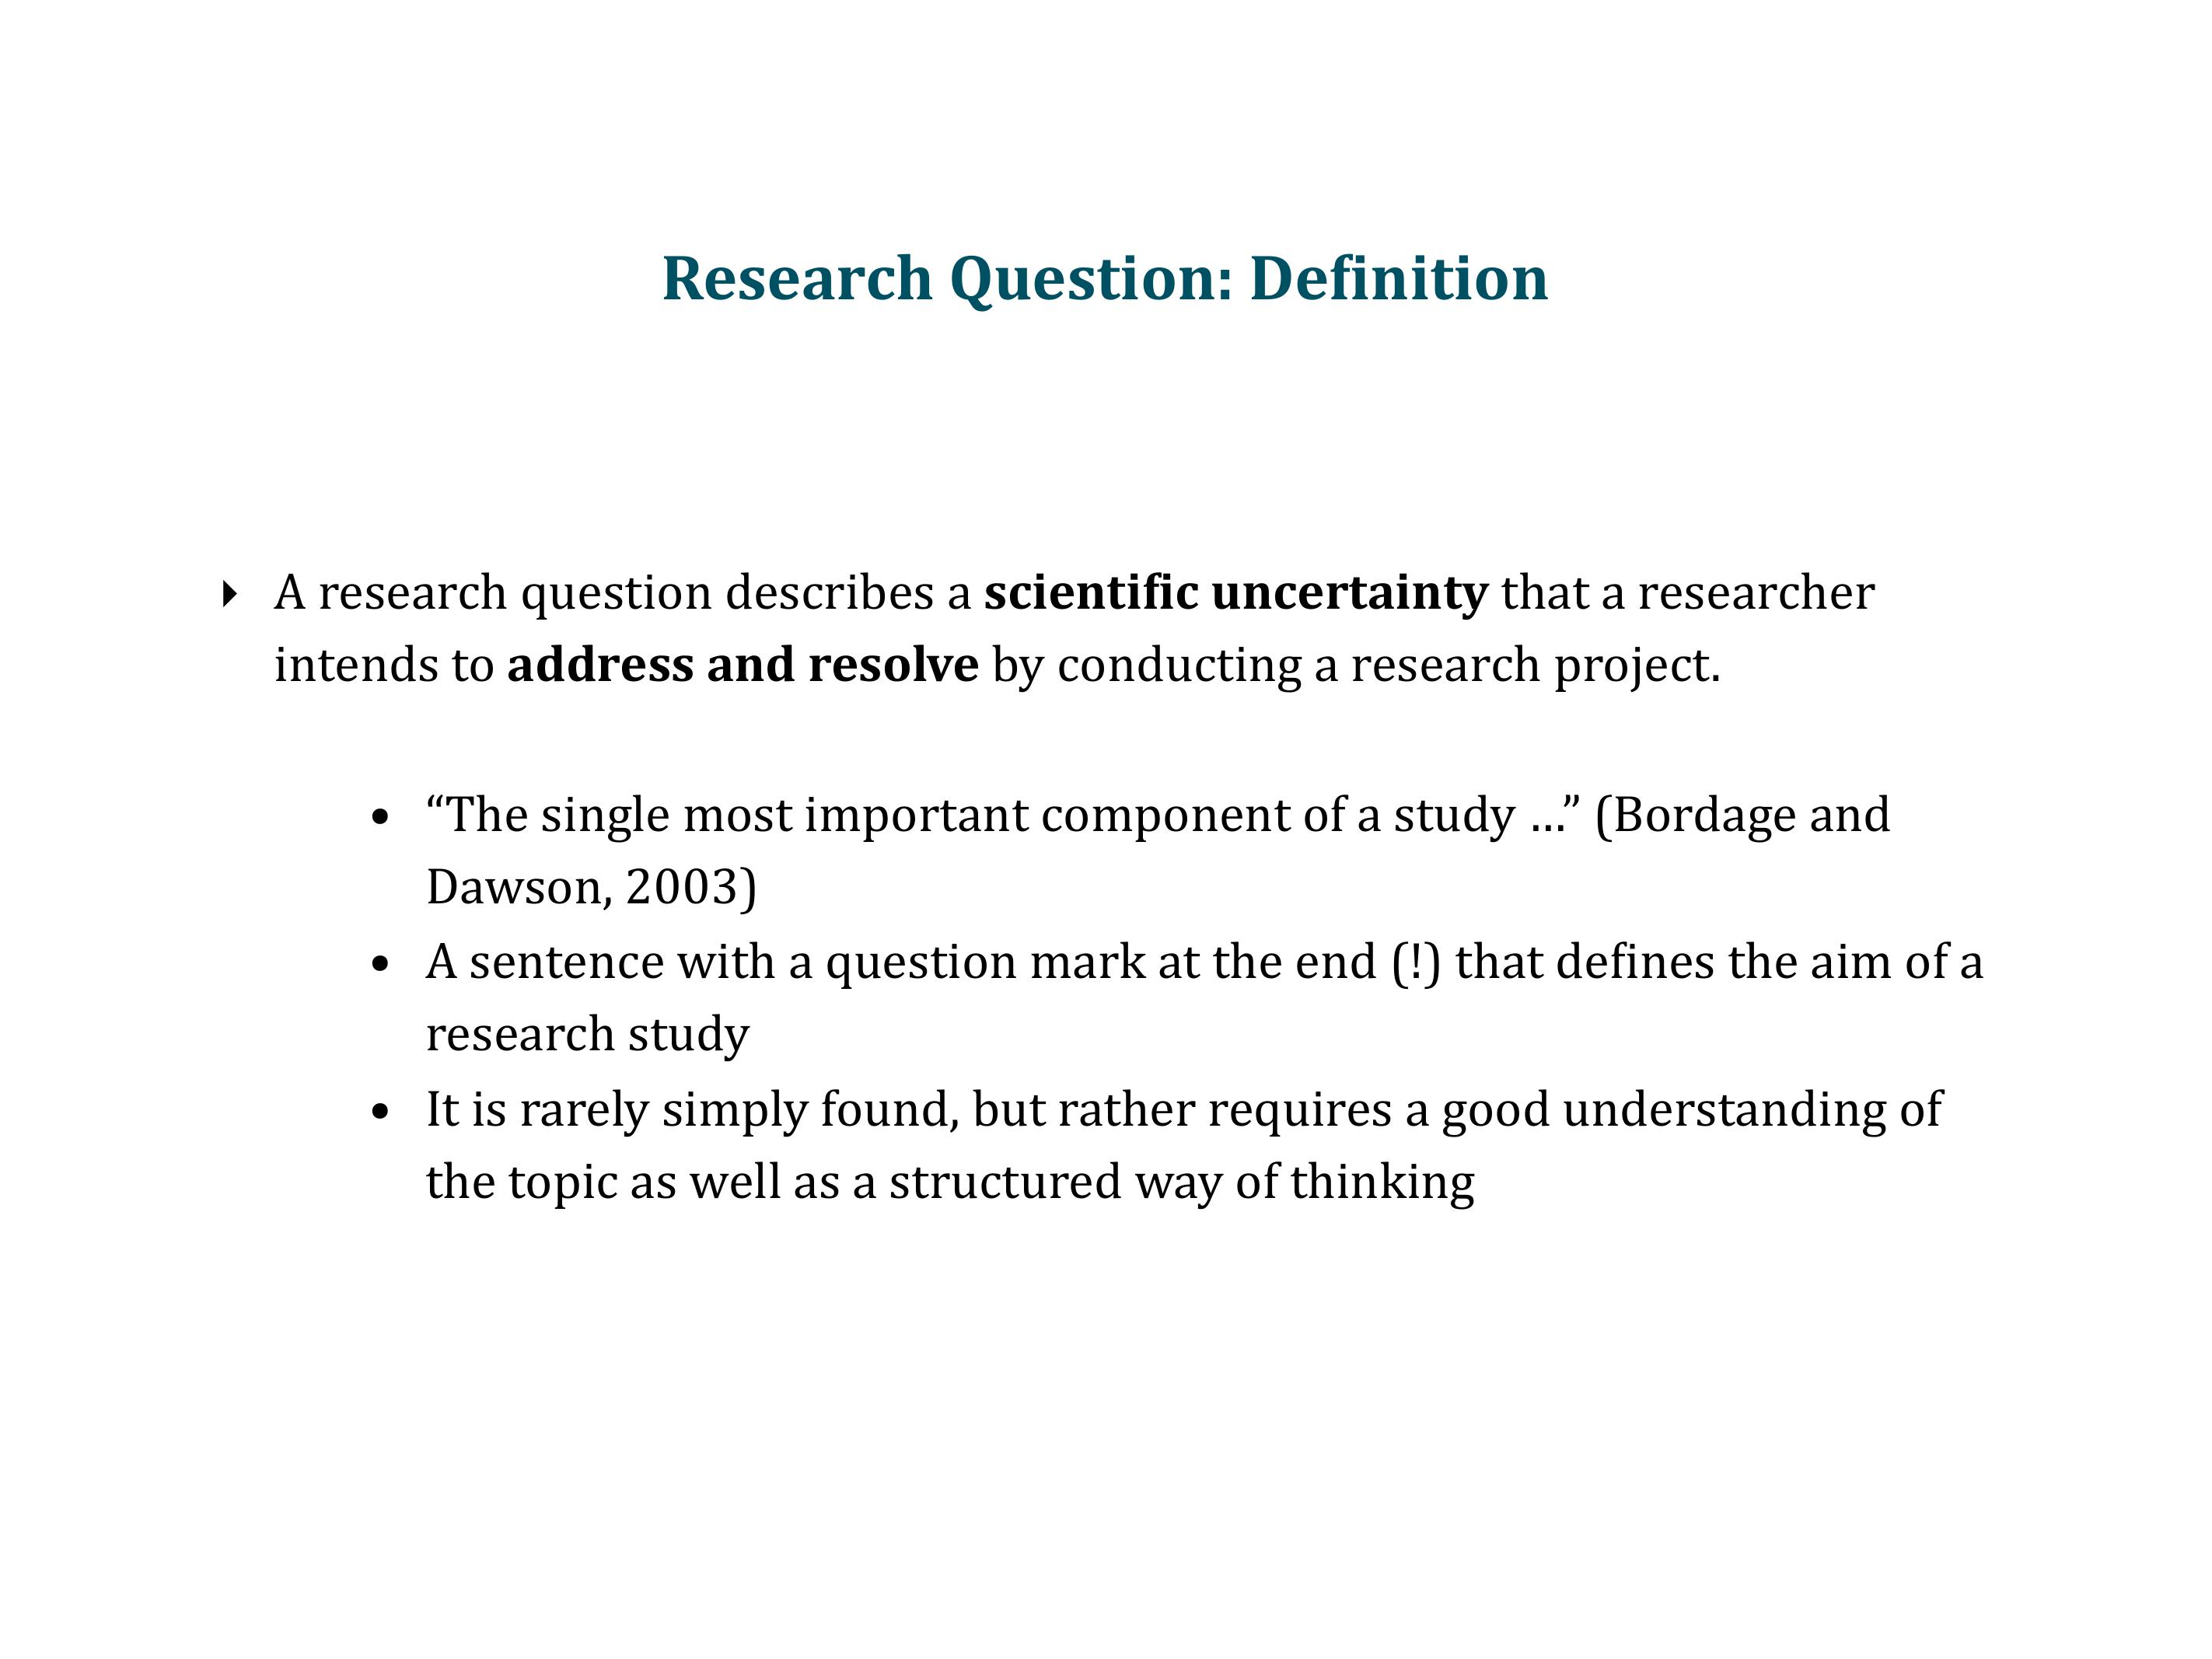Title: (634, 225, 1567, 340)
